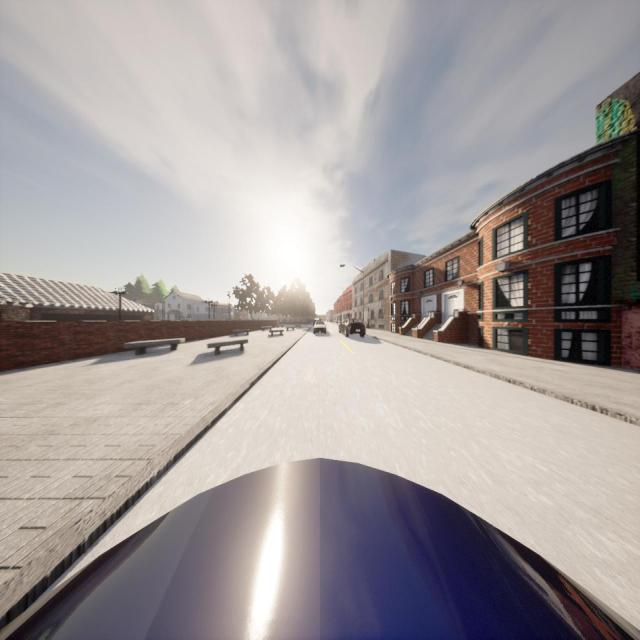Vehicle: (0, 456, 640, 640), (338, 318, 366, 338), (313, 320, 327, 334)
